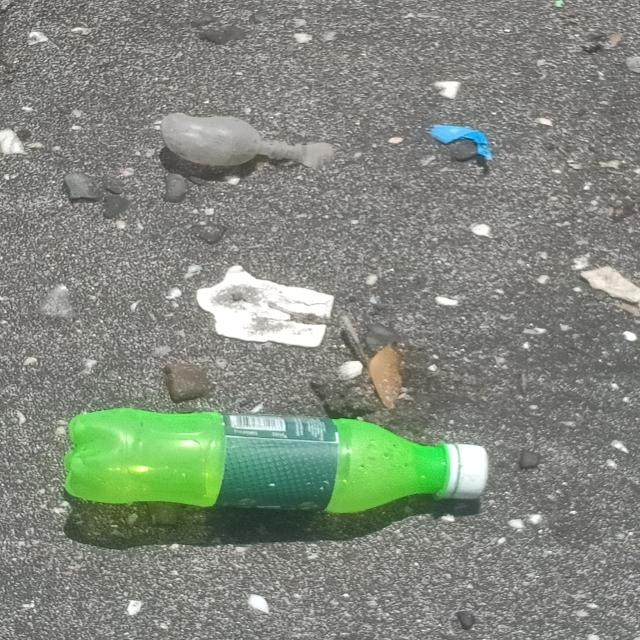plastic_waste: (64, 408, 491, 516), (430, 126, 494, 162)
